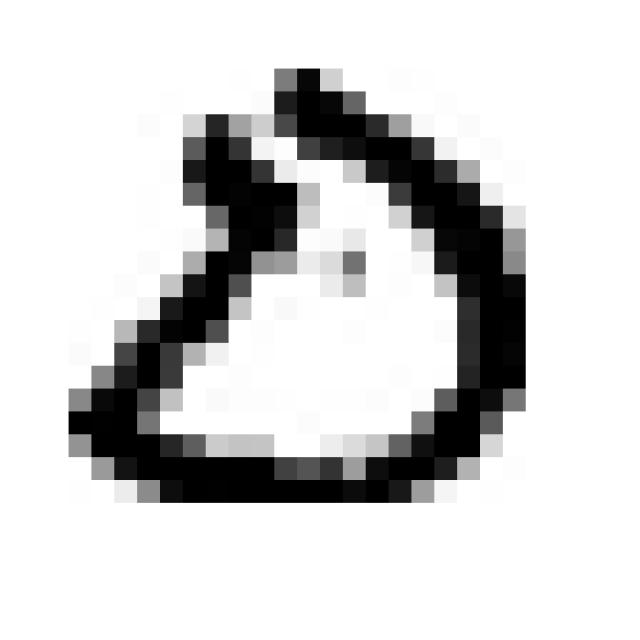5 -five-: (53, 48, 546, 519)
